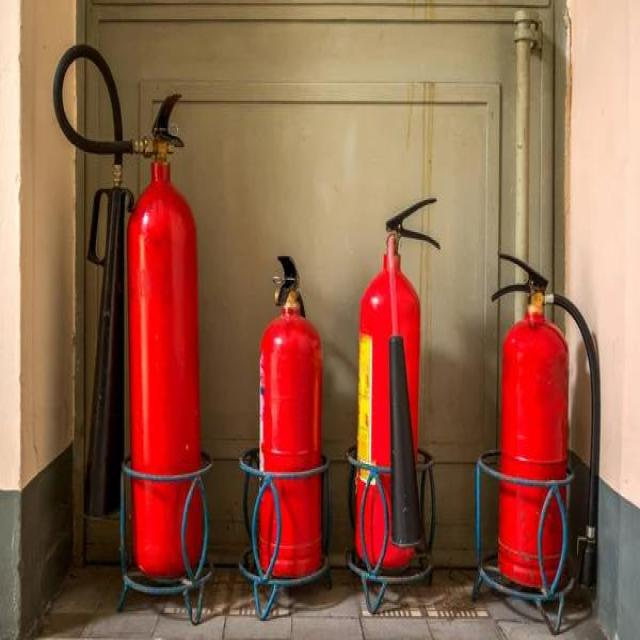fire_extinguisher: (48, 39, 211, 586), (489, 245, 602, 597), (350, 193, 440, 577), (252, 243, 327, 579)
